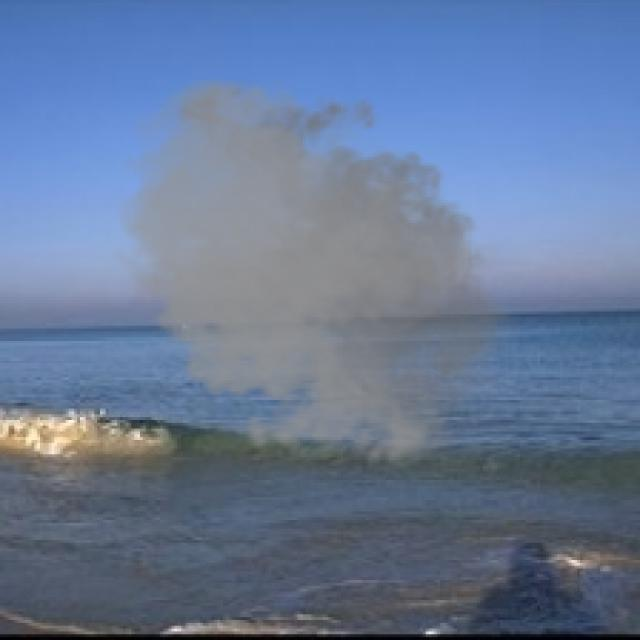smoke: (106, 72, 531, 477)
